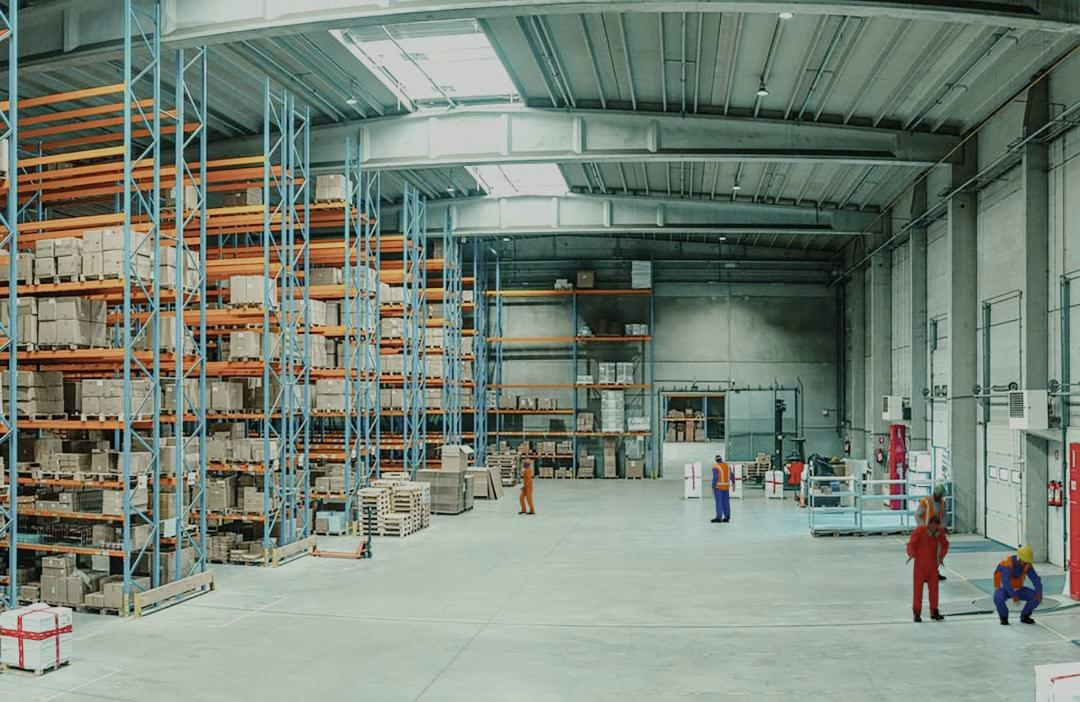Helmet: (1016, 547, 1036, 563), (932, 483, 948, 493), (523, 458, 532, 464)
Jacket: (994, 566, 1031, 589), (921, 498, 944, 528), (713, 464, 731, 490)
Shoes: (1019, 614, 1036, 624), (912, 609, 924, 622), (930, 609, 944, 620), (1000, 612, 1010, 625), (710, 517, 722, 523), (722, 517, 730, 522), (526, 511, 534, 516), (518, 510, 526, 515)
